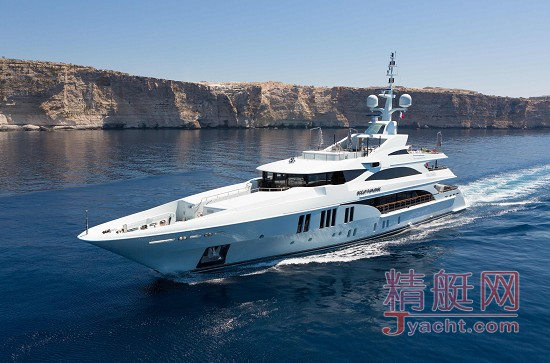yacht: (75, 66, 469, 283)
